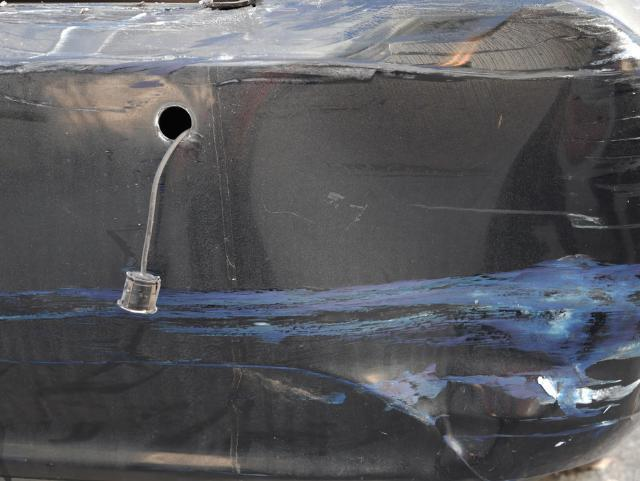Bumper: (2, 0, 617, 464)
